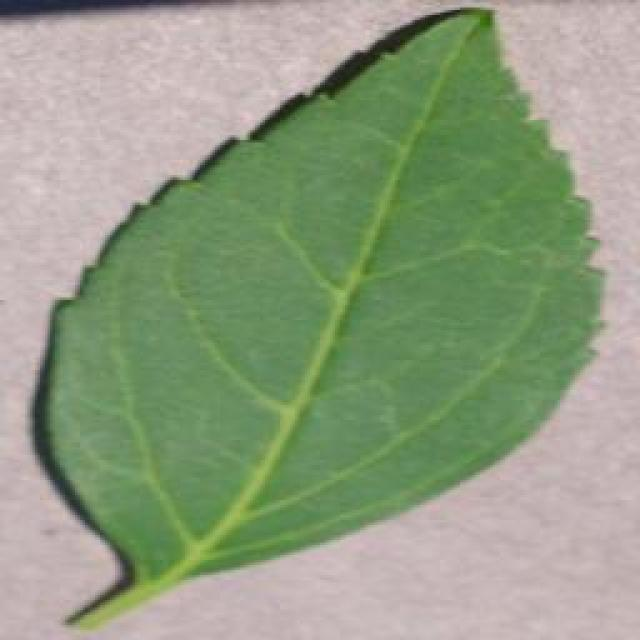Cher_including_sour_healthy: (89, 84, 571, 534)
